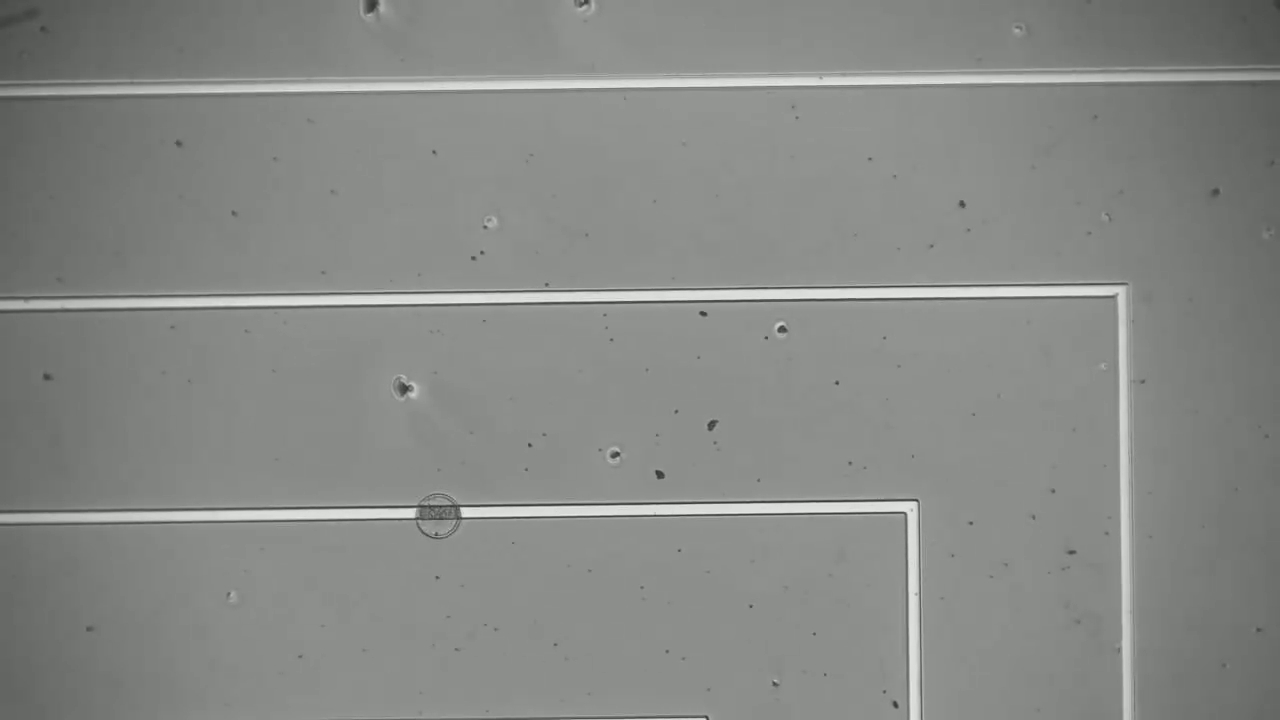gray_line: (398, 499, 478, 528)
